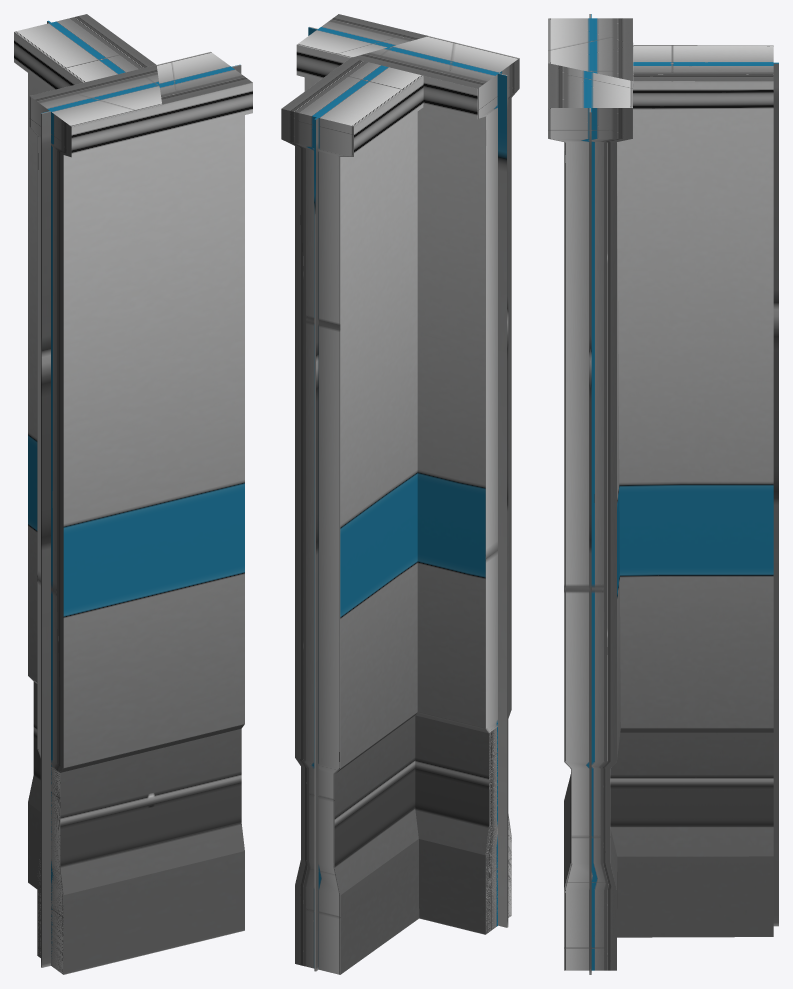
Rendered from TPC_SSM_SU_BB.fbx.
The picture shows the model from 3 angles, left to right: view 1: azimuth 30°, elevation 25°; view 2: azimuth 150°, elevation 25°; view 3: azimuth 270°, elevation 25°; orthographic projection.
Parts seen in each view (by area): view 1: TPC_SSM_SU_BB; view 2: TPC_SSM_SU_BB; view 3: TPC_SSM_SU_BB.
Boxes of the visible parts, x1,y1,x2,y2 form: TPC_SSM_SU_BB: (14, 14, 252, 974); TPC_SSM_SU_BB: (281, 14, 519, 974); TPC_SSM_SU_BB: (548, 14, 778, 974).
Bounding box in the file's own units: 1.1 × 4.5 × 1.09.
